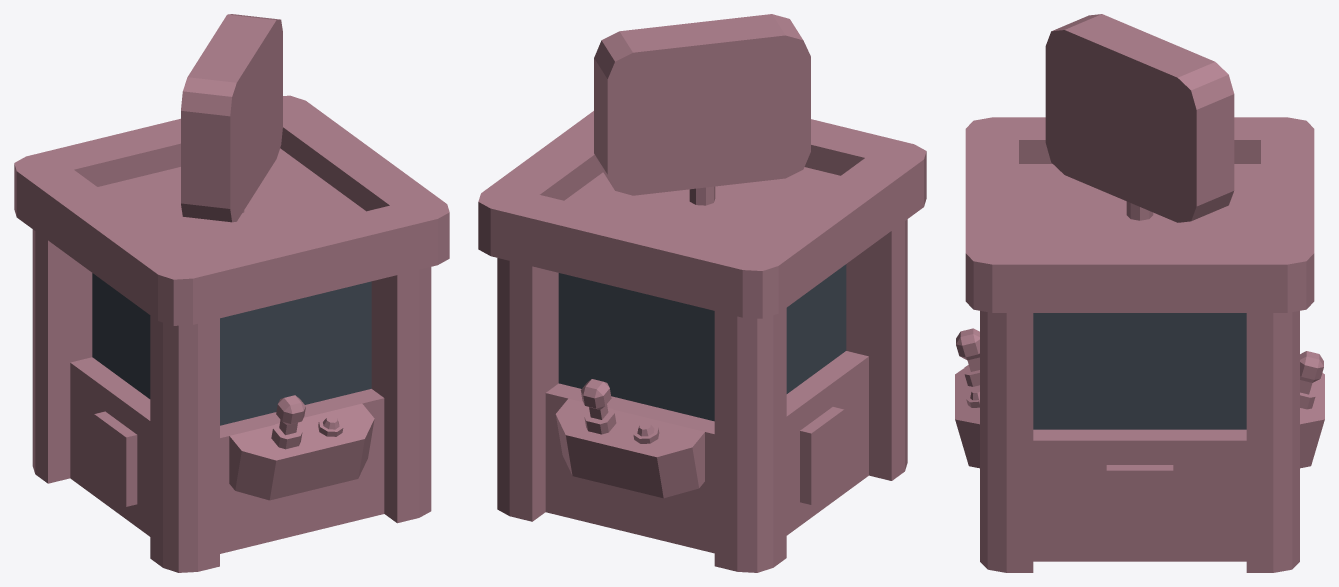
Rendered from claw-machine.obj.
3 renders of one model, left to right at view 1: azimuth 30°, elevation 25°; view 2: azimuth 150°, elevation 25°; view 3: azimuth 270°, elevation 25°, orthographic. The views are drawn at different scales.
Bounding box in the file's own units: 0.653 × 0.95 × 0.6932.
